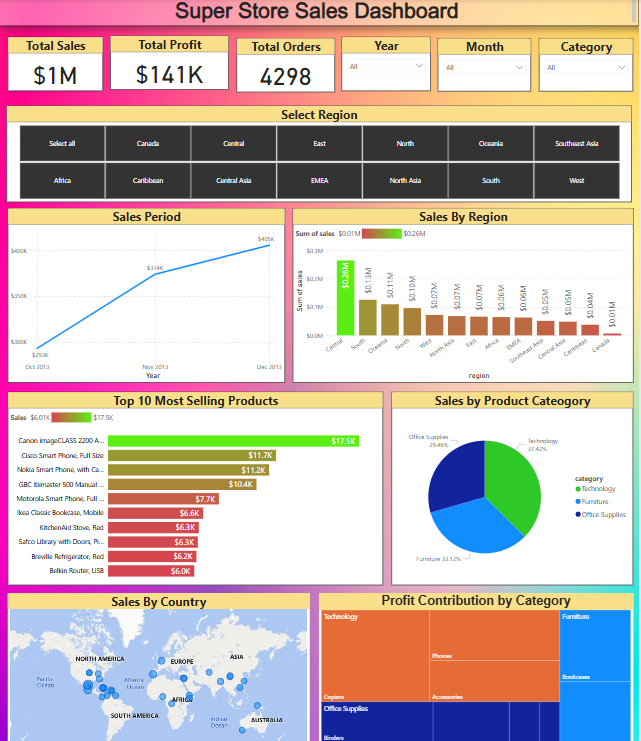

The page's visual inventory and layout, read from the dashboard file:
{"tool":"powerbi","page":{"name":"Page 1","canvas":[1280,1600],"ordinal":0},"visuals":[{"type":"textbox","box":[0,0,1279.7,67.6],"z":0},{"type":"card","title":"Total Sales","fields":{"Values":["Sum(super_store_order_cleaned.sales)"]},"box":[18.3,89.6,190,108.3],"z":1000},{"type":"card","title":"Total Profit","fields":{"Values":["Sum(super_store_order_cleaned.profit)"]},"box":[223,88.3,236.7,108.3],"z":2000},{"type":"card","title":"Total Orders","fields":{"Values":["CountNonNull(super_store_order_cleaned.order_id)"]},"box":[474.3,92.1,196.7,108.3],"z":3000},{"type":"lineChart","title":"Sales Period","fields":{"Category":["super_store_order_cleaned.order_date.Variation.Date Hierarchy.Year","super_store_order_cleaned.order_date.Variation.Date Hierarchy.Quarter","super_store_order_cleaned.order_date.Variation.Date Hierarchy.Month","super_store_order_cleaned.order_date.Variation.Date Hierarchy.Day"],"Y":["Sum(super_store_order_cleaned.sales)"]},"box":[18.6,431.4,554.3,348.6],"z":4000},{"type":"columnChart","title":"Sales By Region","fields":{"Category":["super_store_order_cleaned.region"],"Y":["Sum(super_store_order_cleaned.sales)"]},"box":[587.1,431.4,681.4,348.6],"z":5000},{"type":"pieChart","title":"Sales by Product Cateogory","fields":{"Category":["super_store_order_cleaned.category"],"Y":["Sum(super_store_order_cleaned.sales)"]},"box":[785,800,483.3,386.7],"z":6000},{"type":"barChart","title":"Top 10 Most Selling Products","fields":{"Category":["super_store_order_cleaned.product_name"],"Y":["Sum(super_store_order_cleaned.sales)"]},"box":[18.3,800,750,386.7],"z":7000},{"type":"slicer","title":"Year","fields":{"Values":["super_store_order_cleaned.year"]},"box":[685.7,90.8,178.3,108.3],"z":8000},{"type":"slicer","title":"Month","fields":{"Values":["super_store_order_cleaned.Month Name"]},"box":[878.7,92.9,186.7,106.7],"z":9000},{"type":"slicer","title":"Select Region","fields":{"Values":["super_store_order_cleaned.region"]},"box":[14.3,227.1,1250,192.9],"z":10000},{"type":"slicer","title":"Category","fields":{"Values":["super_store_order_cleaned.category"]},"box":[1080,93.3,188.3,106.7],"z":11000},{"type":"map","title":"Sales By Country","fields":{"Category":["super_store_order_cleaned.country"],"Size":["Sum(super_store_order_cleaned.profit)"]},"box":[18.6,1202.9,604.3,382.9],"z":12000},{"type":"treemap","title":"Profit Contribution by Category","fields":{"Group":["super_store_order_cleaned.category"],"Details":["super_store_order_cleaned.sub_category"],"Values":["Sum(super_store_order_cleaned.profit)"]},"box":[640,1202.9,628.6,382.9],"z":13000}]}

Visuals, with their boxes on the page's 1280x1600 design canvas (x1, y1, x2, y2). These are canvas units, not pixel positions in the 641x741 screenshot, which may show the page scaled, cropped or inside an application window:
textbox: [left=0, top=0, right=1280, bottom=68]
"Total Sales" card: [left=18, top=90, right=208, bottom=198]
"Total Profit" card: [left=223, top=88, right=460, bottom=197]
"Total Orders" card: [left=474, top=92, right=671, bottom=200]
"Sales Period" lineChart: [left=19, top=431, right=573, bottom=780]
"Sales By Region" columnChart: [left=587, top=431, right=1268, bottom=780]
"Sales by Product Cateogory" pieChart: [left=785, top=800, right=1268, bottom=1187]
"Top 10 Most Selling Products" barChart: [left=18, top=800, right=768, bottom=1187]
"Year" slicer: [left=686, top=91, right=864, bottom=199]
"Month" slicer: [left=879, top=93, right=1065, bottom=200]
"Select Region" slicer: [left=14, top=227, right=1264, bottom=420]
"Category" slicer: [left=1080, top=93, right=1268, bottom=200]
"Sales By Country" map: [left=19, top=1203, right=623, bottom=1586]
"Profit Contribution by Category" treemap: [left=640, top=1203, right=1269, bottom=1586]
